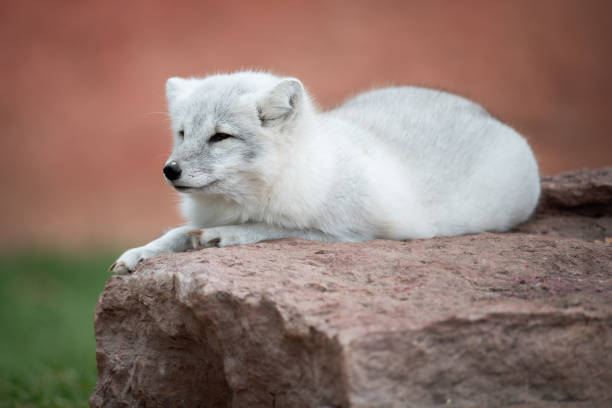arcticfox: (146, 73, 277, 211)
